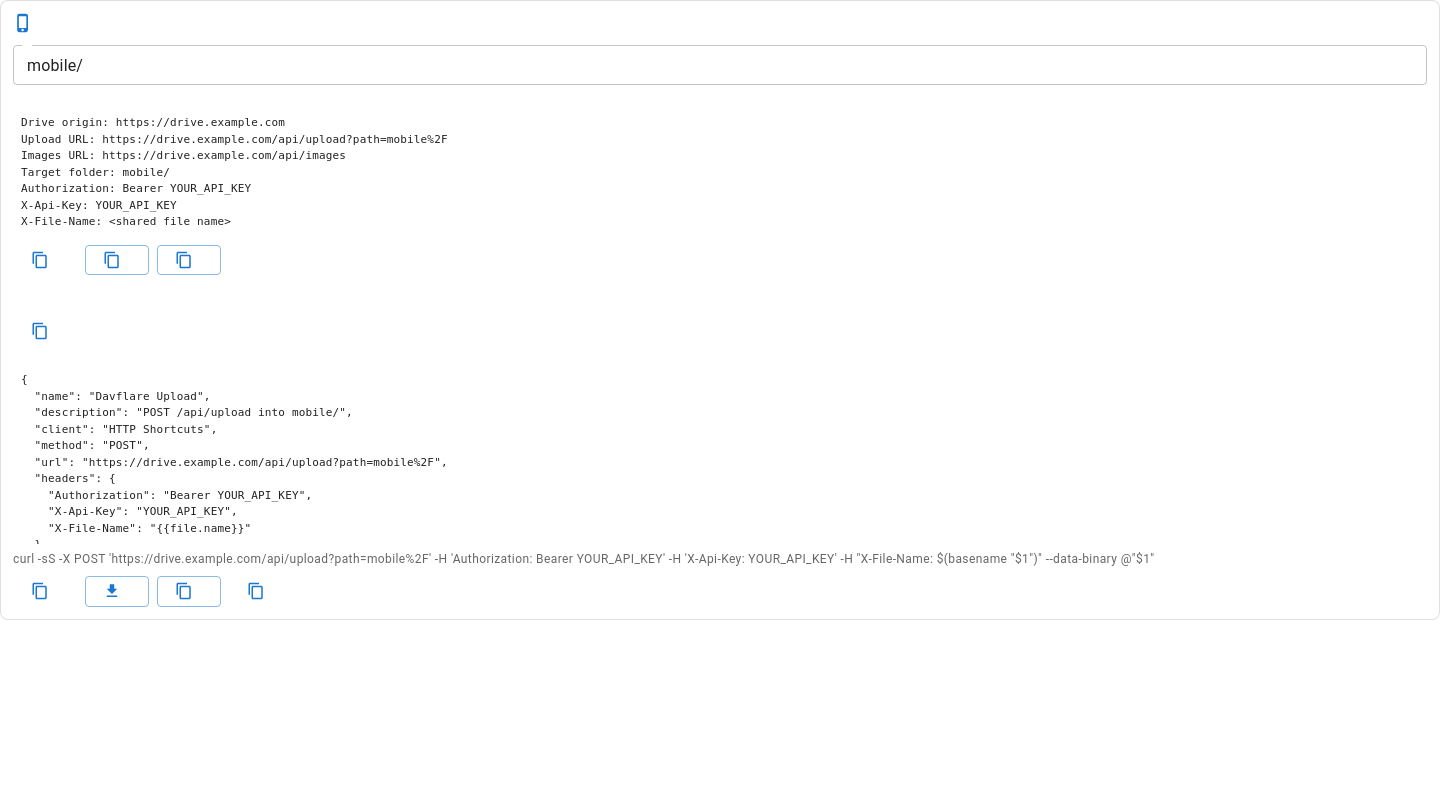
Test case: MobileUploadCard › path field updates upload URL preview
Replace the text in the field with test id "mobile-upload-path" with "inbox/photos" at (720, 65), box [13, 45, 1427, 85]
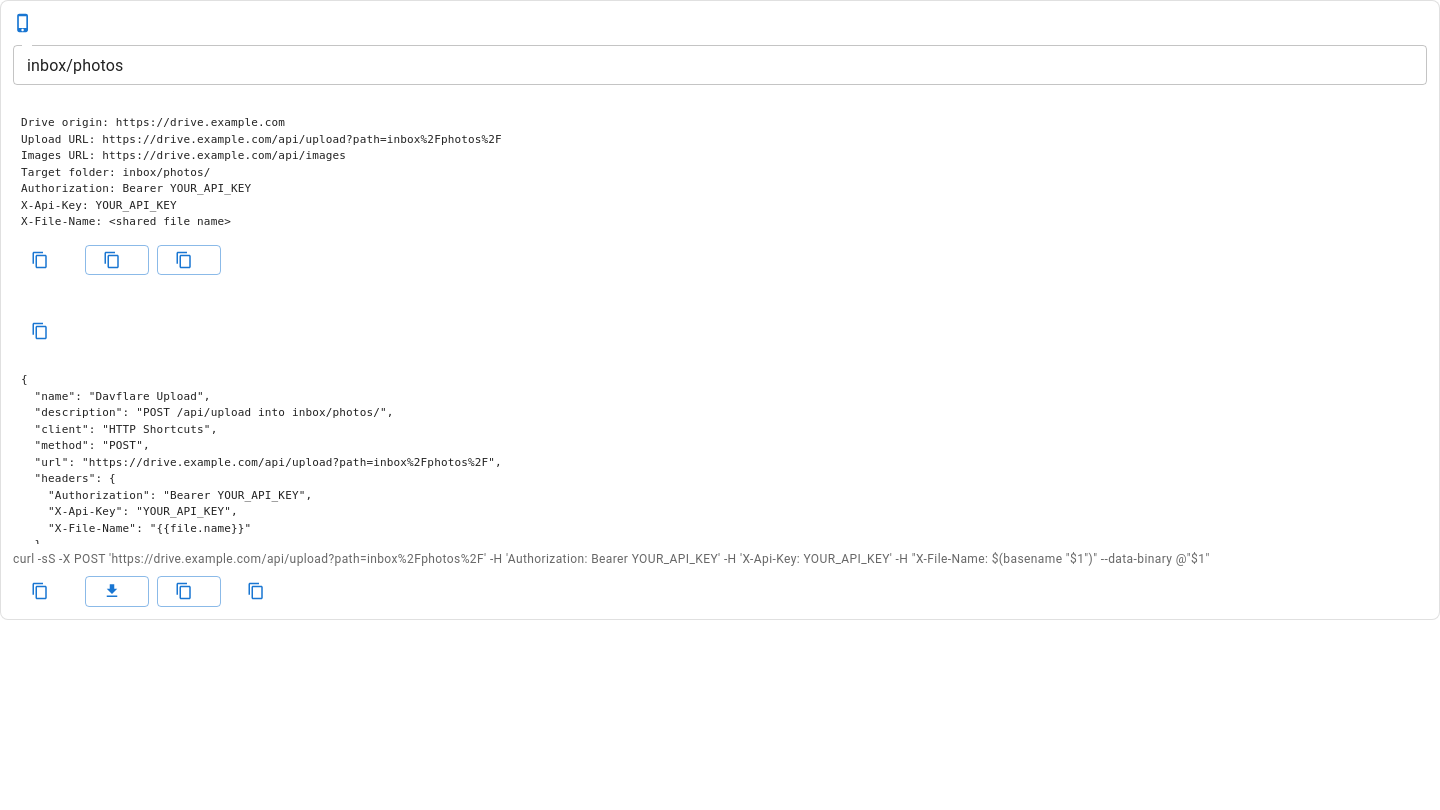
expect the text with test id "mobile-upload-values-preview" shows "path=inbox%2Fphotos%2F": met, box [21, 116, 502, 228]
